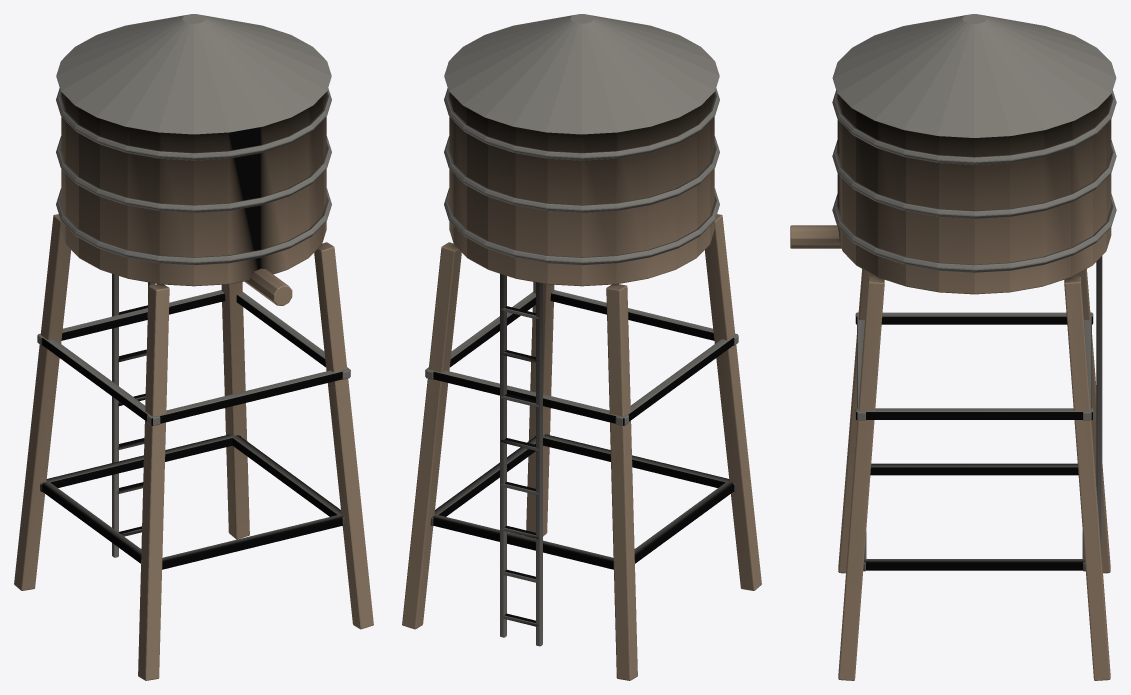
Rendered from watertower.glb.
The picture shows the model from 3 angles, left to right: view 1: azimuth 30°, elevation 25°; view 2: azimuth 150°, elevation 25°; view 3: azimuth 270°, elevation 25°; orthographic projection. The views are drawn at different scales.
Visible parts, largest first — view 1: leg; view 2: leg; view 3: leg.
Boxes of the visible parts, x1,y1,x2,y2 form: leg: (14, 14, 373, 680); leg: (402, 14, 761, 680); leg: (790, 14, 1116, 680).
Size of the model in its own units: 2.39 by 5.62 by 2.75.
